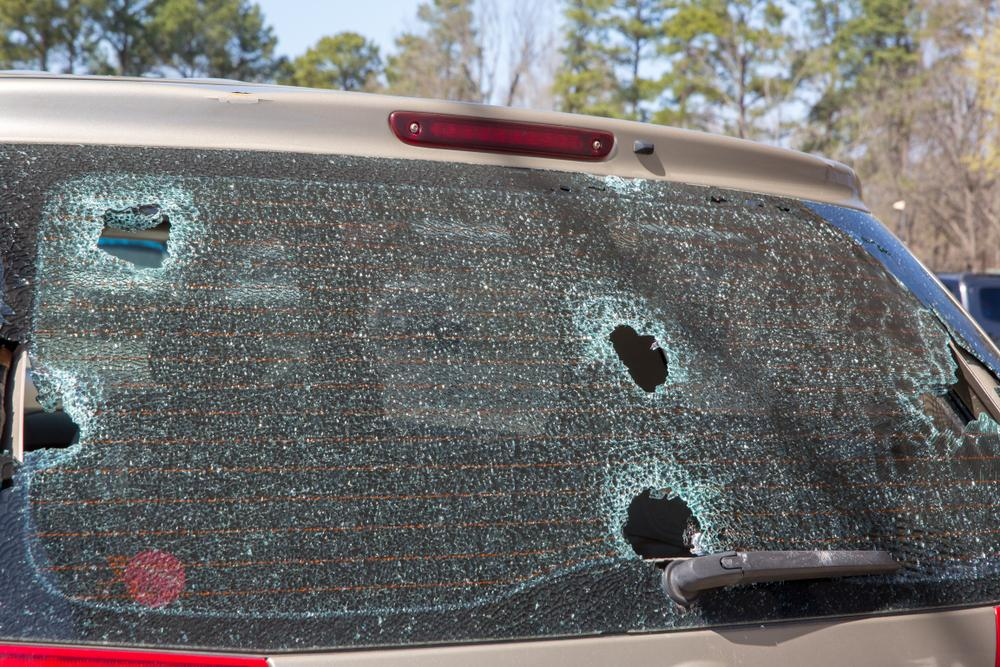glass shatter: (0, 145, 1000, 653)
